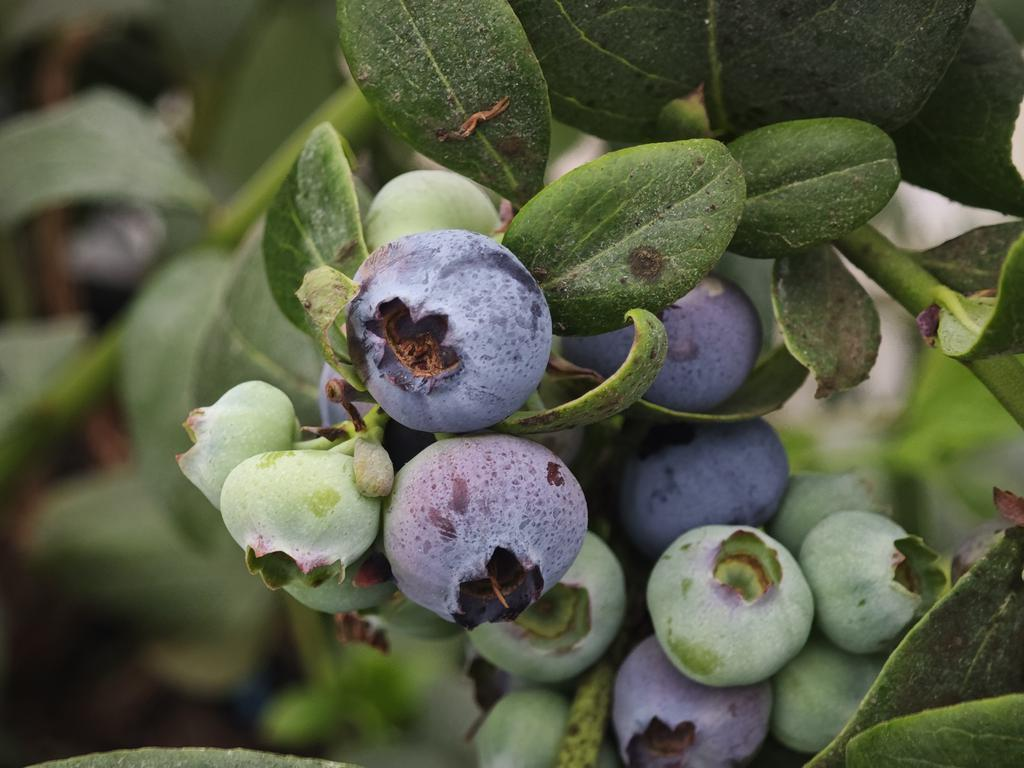RipeBlueBerry: (338, 232, 564, 432)
UnripeBlueBerry: (383, 427, 618, 633), (639, 517, 824, 682), (228, 428, 386, 591)
